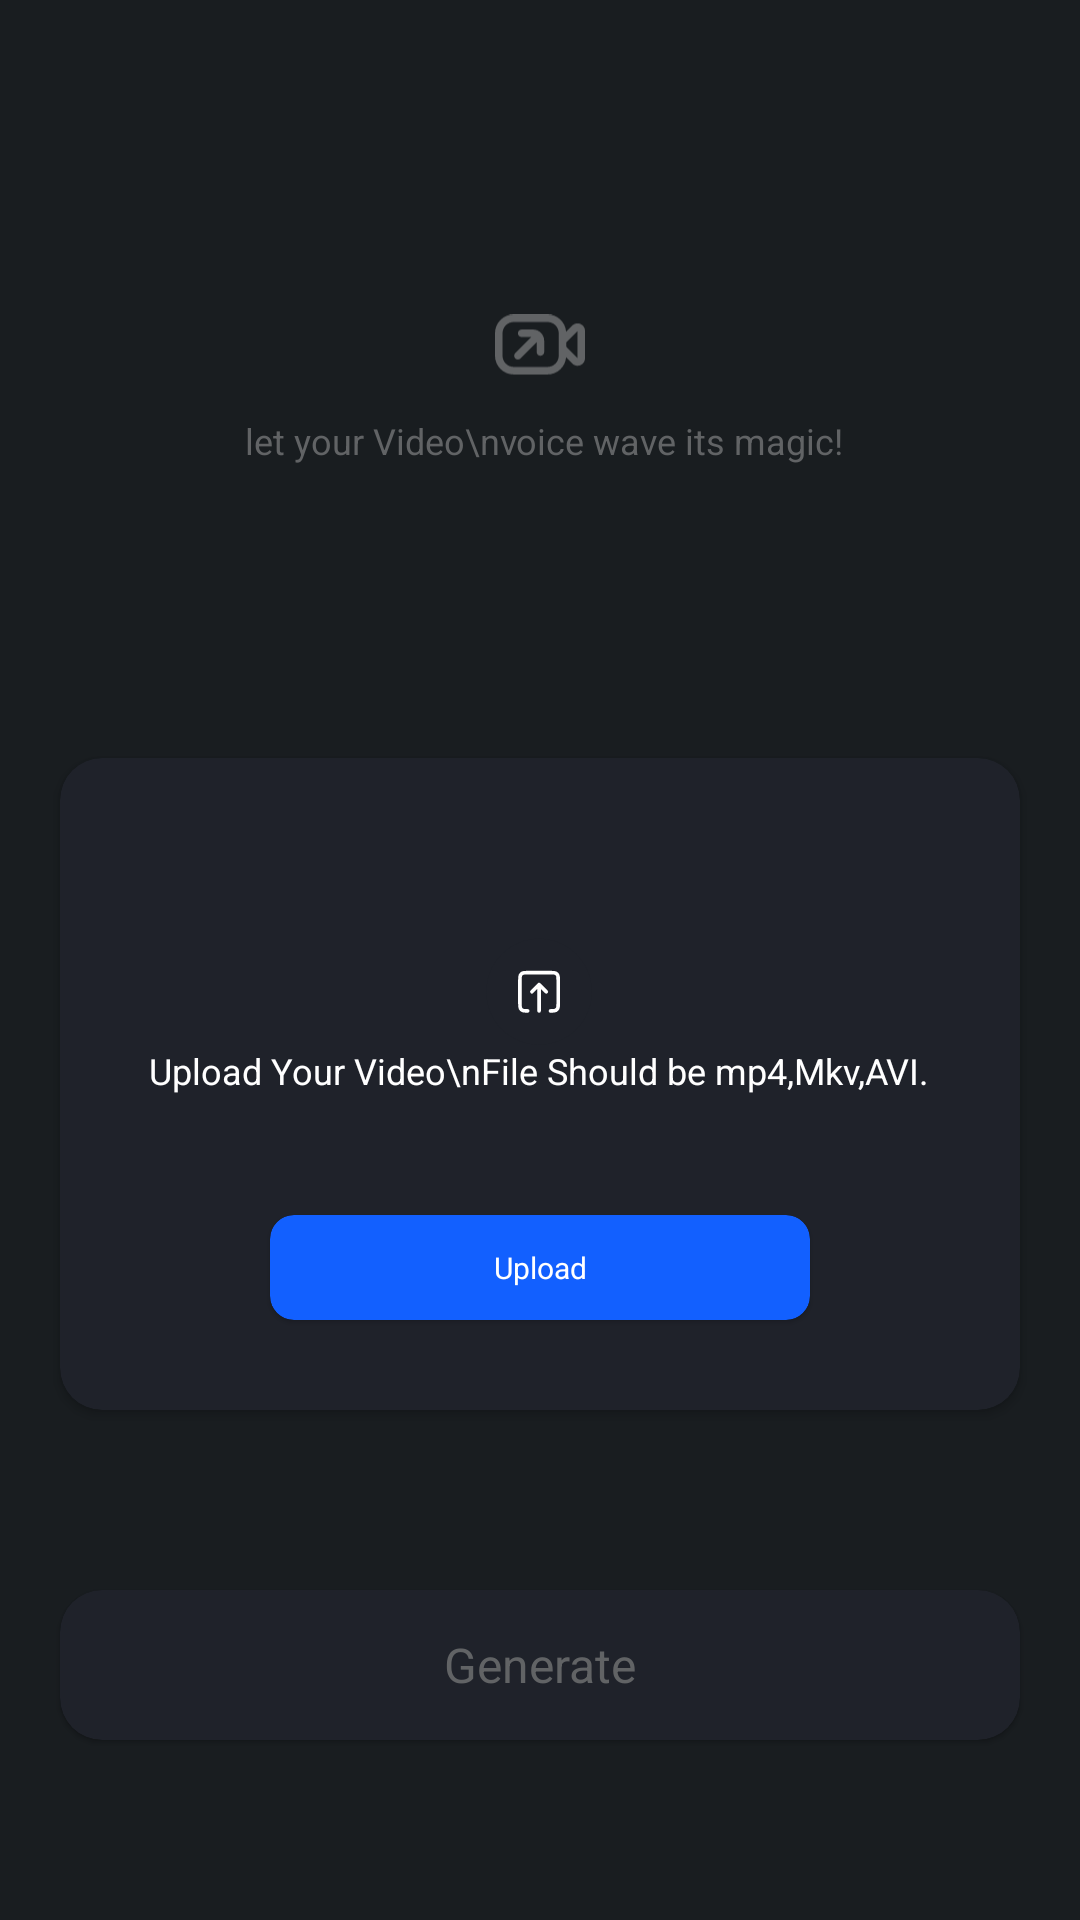

Icon bounding boxes for this 1080 x 1920 phone screenshot, format {"left": x1, "top": y1, "right": x2, "bottom": y2}:
camera: {"left": 495, "top": 314, "right": 585, "bottom": 375}
